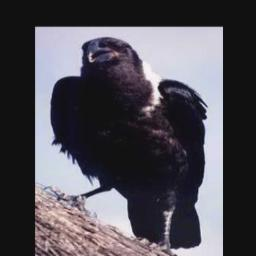Crow: (46, 35, 211, 255)
